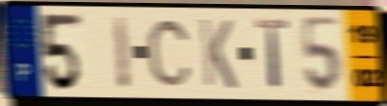5: (37, 11, 84, 92), (299, 15, 344, 97)
C: (145, 18, 195, 89)
I: (110, 13, 134, 93)
K: (197, 16, 239, 92)
T: (253, 17, 292, 92)
